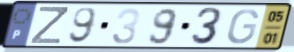3: (189, 6, 225, 47), (111, 6, 141, 45)
9: (147, 7, 179, 45), (68, 6, 99, 44)
G: (225, 8, 260, 46)
Z: (28, 5, 70, 46)
